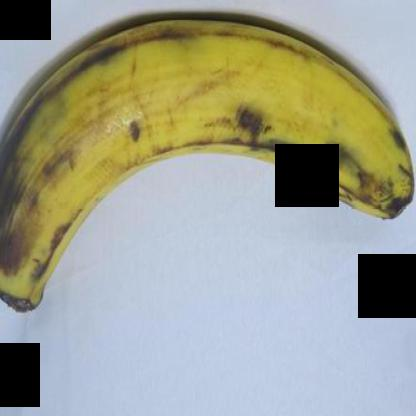ripe: (1, 0, 412, 337)
